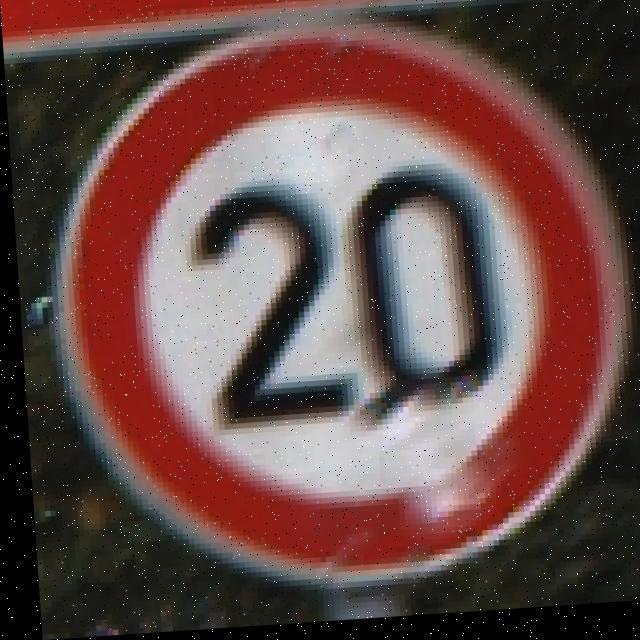speed_limit_20: (34, 13, 640, 605)
